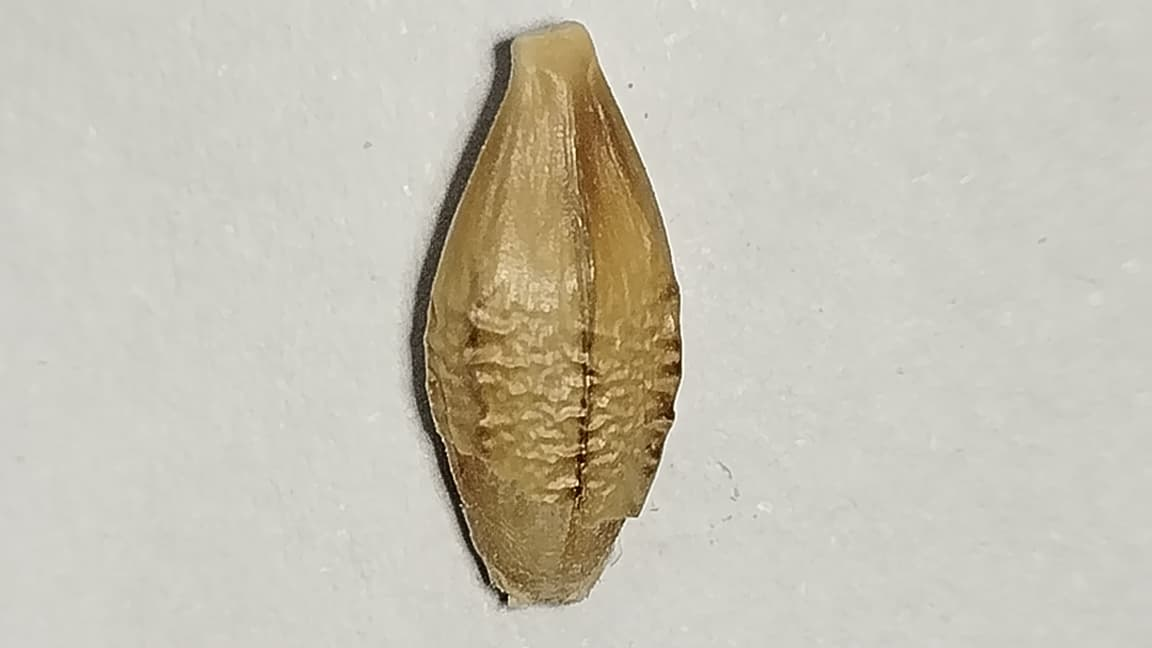healthy-70-60: (425, 30, 680, 601)
shriveledseed: (428, 284, 679, 516)
